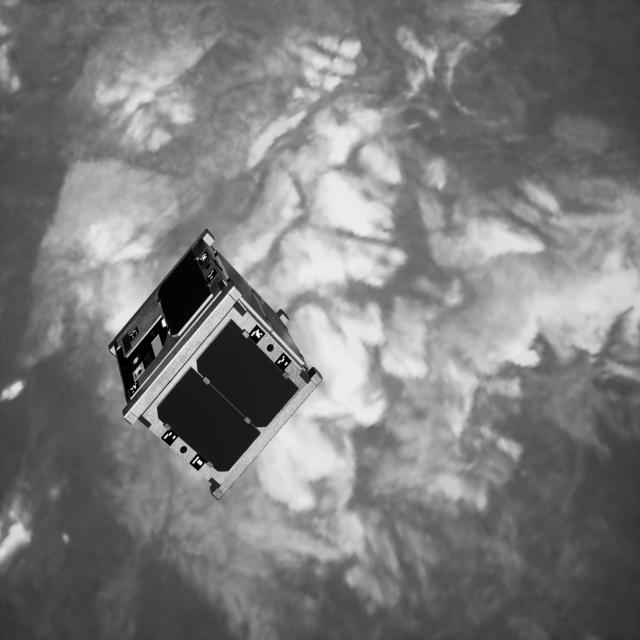satellite: (104, 225, 324, 500)
